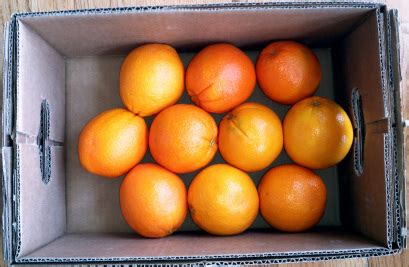orange: (113, 38, 189, 121), (114, 160, 187, 241), (182, 39, 258, 114), (187, 163, 262, 238), (282, 95, 355, 172), (249, 32, 324, 106), (73, 106, 149, 176), (147, 102, 219, 173), (258, 161, 329, 233), (216, 103, 285, 171)
